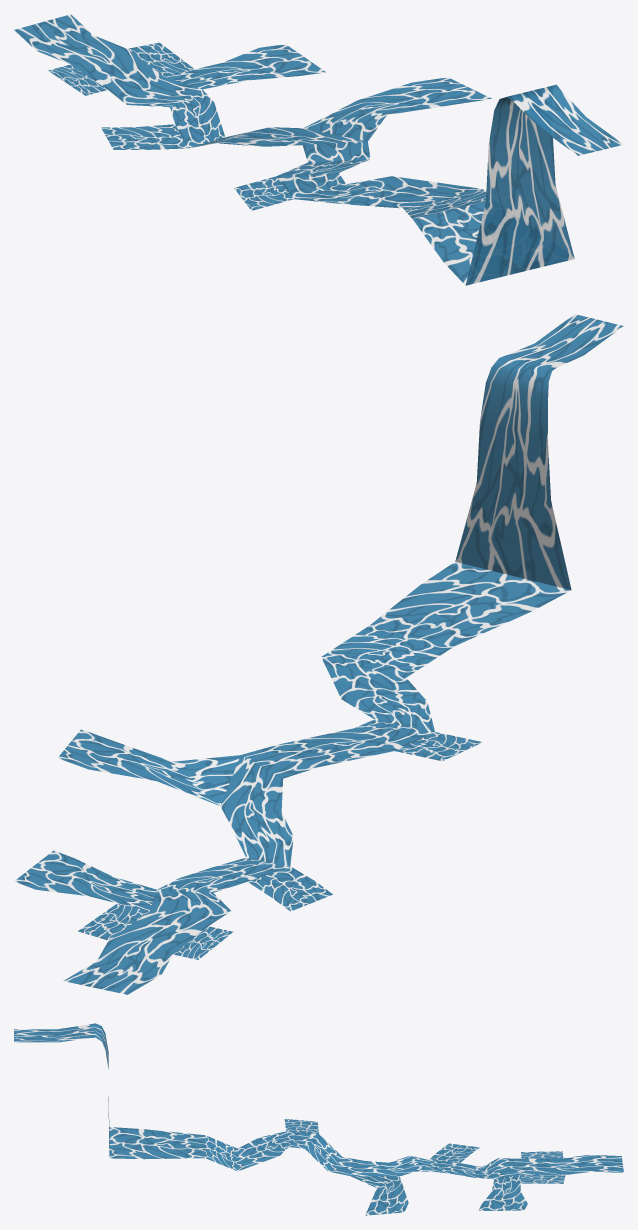
File: RíoPorPartes.fbx
3 renders of one model, top to bottom at view 1: azimuth 30°, elevation 25°; view 2: azimuth 150°, elevation 25°; view 3: azimuth 270°, elevation 25°, orthographic. The views are drawn at different scales.
Parts seen in each view (by area): view 1: Río.001, Río.011, Río.004, Río.003, Río.010, Río.002, Río.007, Río.009, Río.006, Río.008, Río.005, Río.012 (+1 smaller); view 2: Río.001, Río.002, Río.003, Río.011, Río.007, Río.004, Río.010, Río.006, Río.009, Río.008, Río.005, Río.012 (+1 smaller); view 3: Río.002, Río.011, Río.003, Río.007, Río.001, Río.004, Río.010, Río.006, Río.009, Río.008, Río.005, Río.012 (+1 smaller).
Part boxes in pixels (<box>): Río.001: <box>465,84,623,285</box>; Río.011: <box>14,14,201,104</box>; Río.004: <box>303,77,491,141</box>; Río.003: <box>294,176,486,218</box>; Río.010: <box>164,44,325,89</box>; Río.002: <box>413,201,485,285</box>; Río.007: <box>189,127,370,162</box>; Río.009: <box>127,89,225,148</box>; Río.006: <box>276,159,369,198</box>; Río.008: <box>101,124,187,149</box>; Río.005: <box>234,176,293,210</box>; Río.012: <box>127,42,194,76</box>; Río.001: <box>455,314,623,589</box>; Río.002: <box>370,562,571,646</box>; Río.003: <box>321,625,453,731</box>; Río.011: <box>63,889,230,994</box>; Río.007: <box>220,744,317,865</box>; Río.004: <box>58,729,240,805</box>; Río.010: <box>14,850,156,911</box>; Río.006: <box>278,719,434,767</box>; Río.009: <box>157,857,289,910</box>; Río.008: <box>248,866,332,911</box>; Río.005: <box>395,732,482,761</box>; Río.012: <box>78,903,149,940</box>; Río.002: <box>109,1127,205,1159</box>; Río.011: <box>494,1154,623,1179</box>; Río.003: <box>205,1131,288,1171</box>; Río.007: <box>328,1155,431,1176</box>; Río.001: <box>14,1023,109,1148</box>; Río.004: <box>350,1176,408,1215</box>; Río.010: <box>478,1174,527,1210</box>; Río.006: <box>286,1131,341,1170</box>; Río.009: <box>429,1158,497,1179</box>; Río.008: <box>429,1143,479,1162</box>; Río.005: <box>284,1119,318,1134</box>; Río.012: <box>520,1174,565,1183</box>.
Size of the model in its own units: 4189 by 3229 by 12128.
